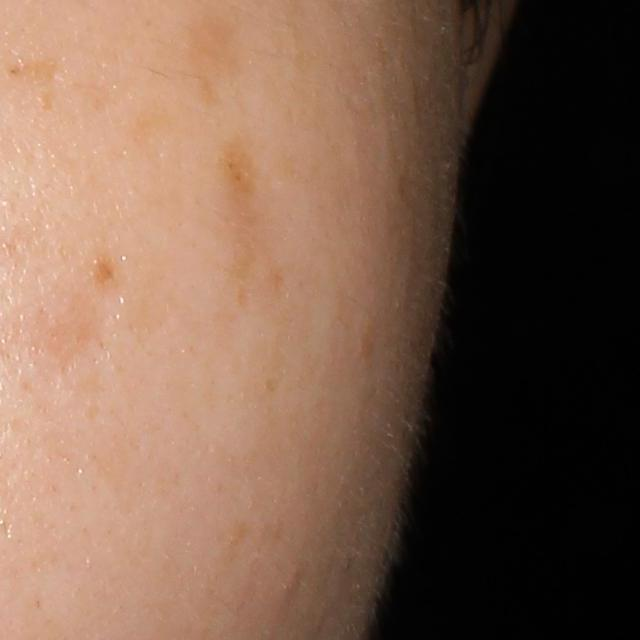melasma: (213, 136, 313, 411), (77, 73, 187, 176), (0, 46, 69, 122)
